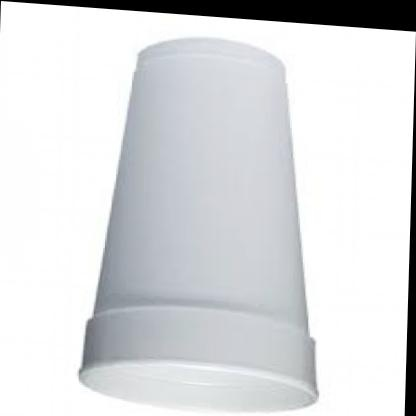trash: (80, 38, 316, 410)
